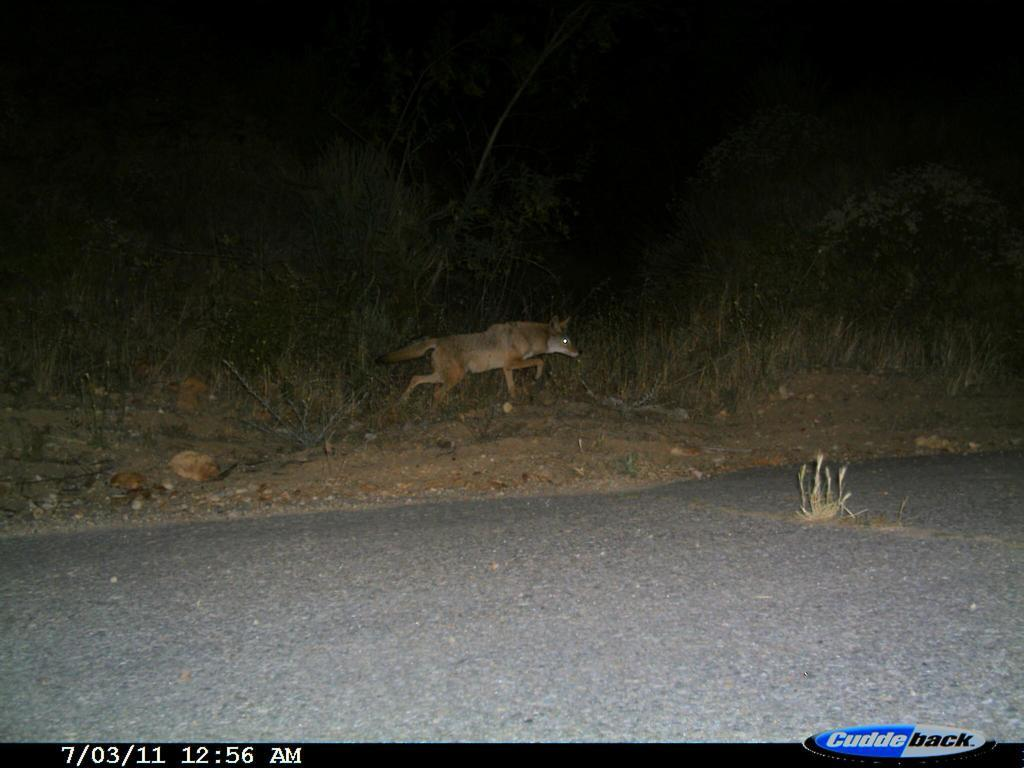coyote: (369, 299, 588, 427)
